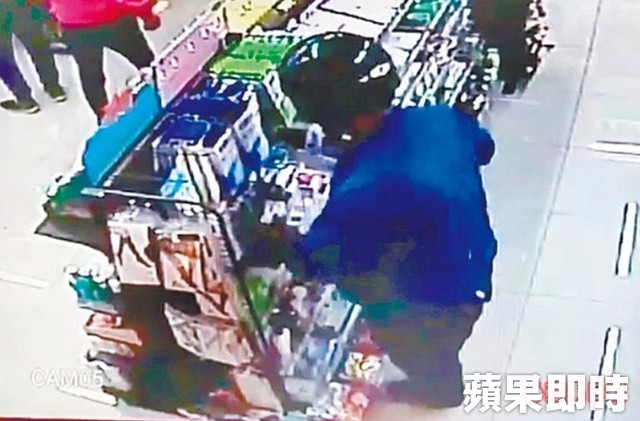helmet: (285, 43, 399, 117)
